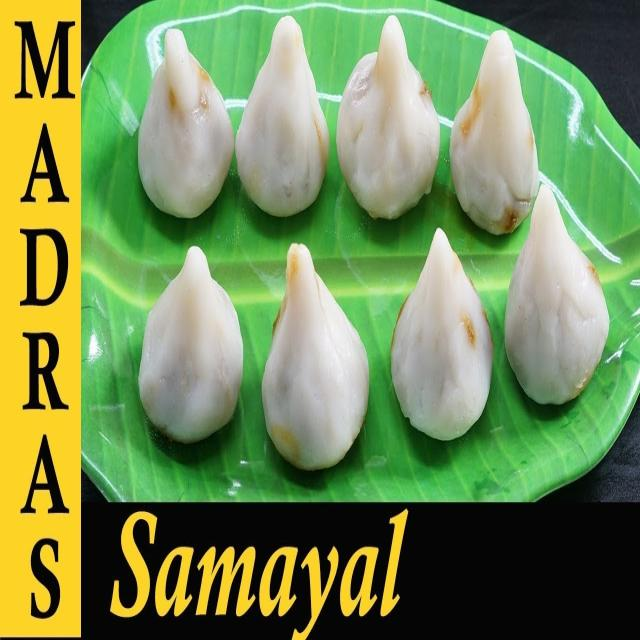poorna kolukattai: (135, 3, 617, 483)
